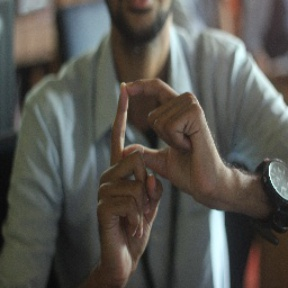D: (100, 74, 198, 189)
